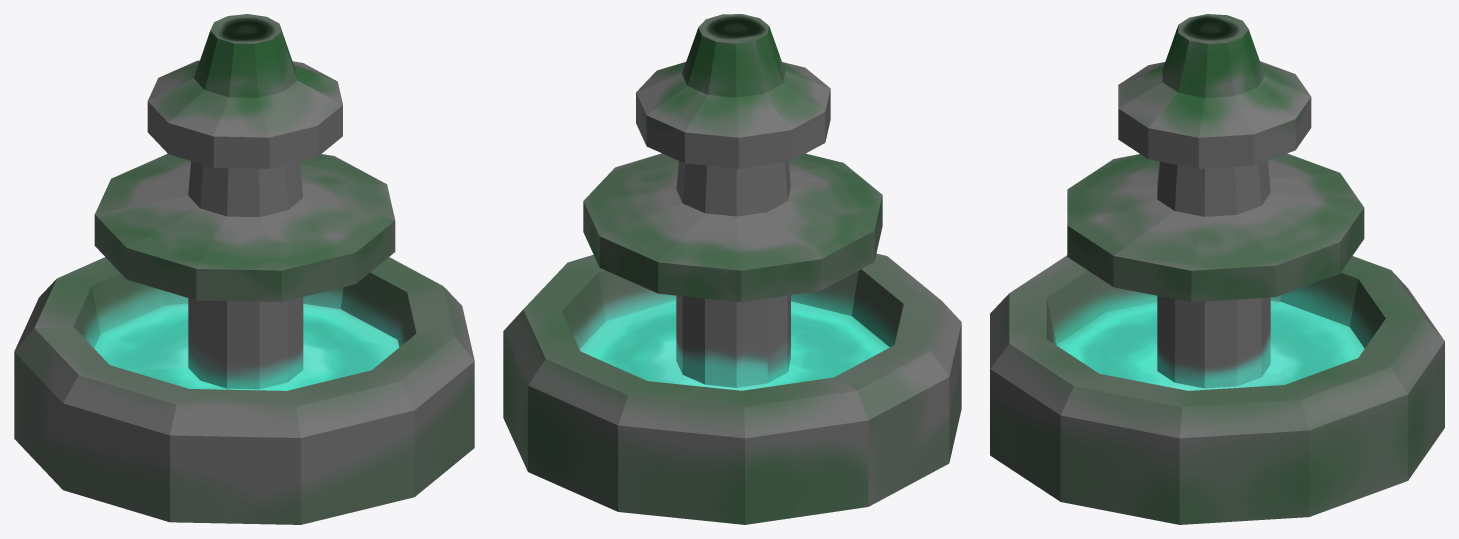
Rendered from fountainnn.fbx.
3 renders of one model, left to right at view 1: azimuth 30°, elevation 25°; view 2: azimuth 150°, elevation 25°; view 3: azimuth 270°, elevation 25°, orthographic.
Parts seen in each view (by area): view 1: Cylinder; view 2: Cylinder; view 3: Cylinder.
Boxes of the visible parts, x1,y1,x2,y2 form: Cylinder: (14, 14, 474, 524); Cylinder: (503, 14, 961, 524); Cylinder: (990, 14, 1444, 524).
Size of the model in its own units: 664 by 636 by 657.
